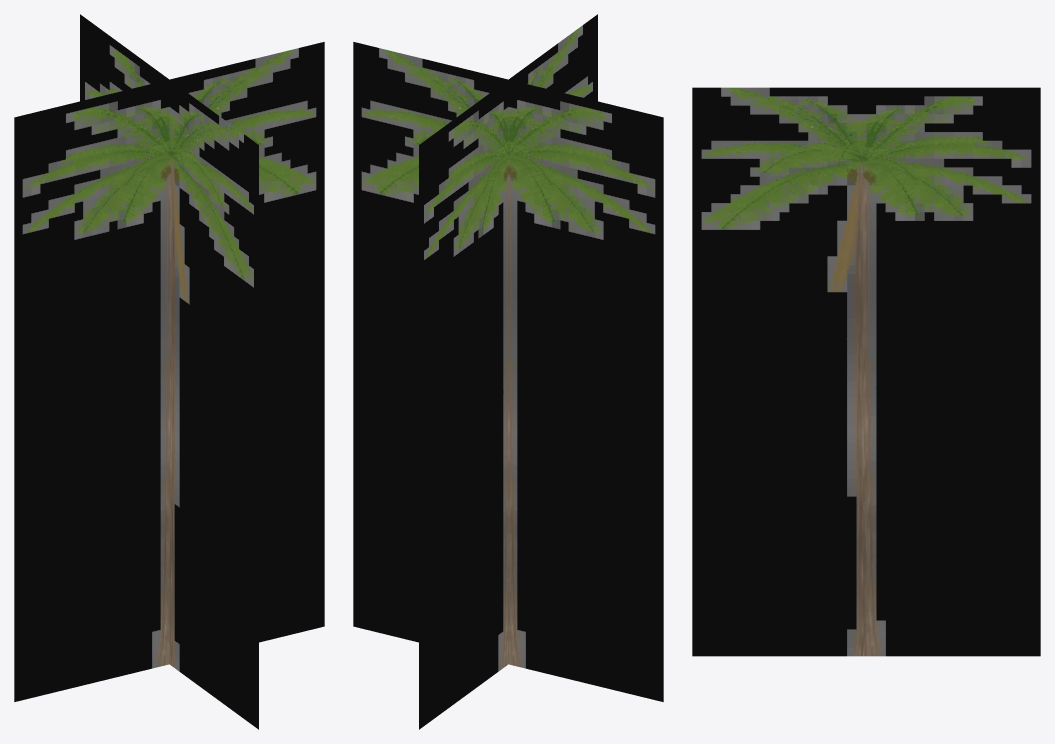
File: palm_tall_a_far.glb
3 views of the same model, side by side, from view 1: azimuth 30°, elevation 25°; view 2: azimuth 150°, elevation 25°; view 3: azimuth 270°, elevation 25° (orthographic). The views are drawn at different scales.
Visible parts, largest first — view 1: impostor; view 2: impostor; view 3: impostor.
Part boxes in pixels (<box>): impostor: <box>14,14,324,729</box>; impostor: <box>353,14,663,729</box>; impostor: <box>692,87,1040,656</box>.
Size of the model in its own units: 8.4 by 15.13 by 8.4.
Materials: 1 (1 with a texture image).
